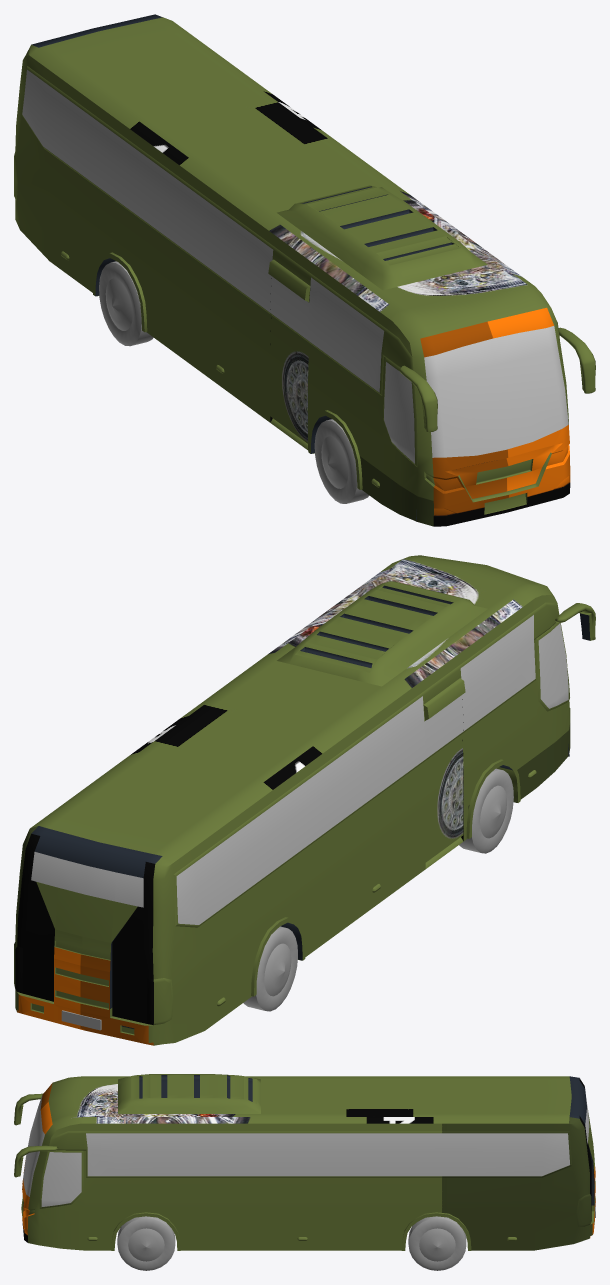
The model's file is Bus_07.fbx.
3 views of the same model, one above another, from view 1: azimuth 30°, elevation 25°; view 2: azimuth 150°, elevation 25°; view 3: azimuth 270°, elevation 25° (orthographic). The views are drawn at different scales.
Parts seen in each view (by area): view 1: Bus_7body, Bus_7_Glass, Bus_7_Door, RR, FR, DoorGlass; view 2: Bus_7body, Bus_7_Glass, Bus_7_Door, FR, RR, DoorGlass; view 3: Bus_7body, Bus_7_Glass, FL, RL.
Part boxes in pixels (<box>): Bus_7body: <box>14,14,595,526</box>; Bus_7_Glass: <box>22,69,568,463</box>; Bus_7_Door: <box>270,313,308,443</box>; RR: <box>99,261,153,346</box>; FR: <box>314,419,369,503</box>; DoorGlass: <box>270,276,309,339</box>; Bus_7body: <box>14,555,595,1045</box>; Bus_7_Glass: <box>31,615,568,924</box>; Bus_7_Door: <box>425,731,463,862</box>; FR: <box>459,768,513,853</box>; RR: <box>243,926,297,1011</box>; DoorGlass: <box>424,695,463,758</box>; Bus_7body: <box>14,1074,595,1250</box>; Bus_7_Glass: <box>23,1091,589,1206</box>; FL: <box>117,1216,175,1270</box>; RL: <box>408,1216,466,1270</box>.
Size of the model in its own units: 248 by 323 by 1074.
